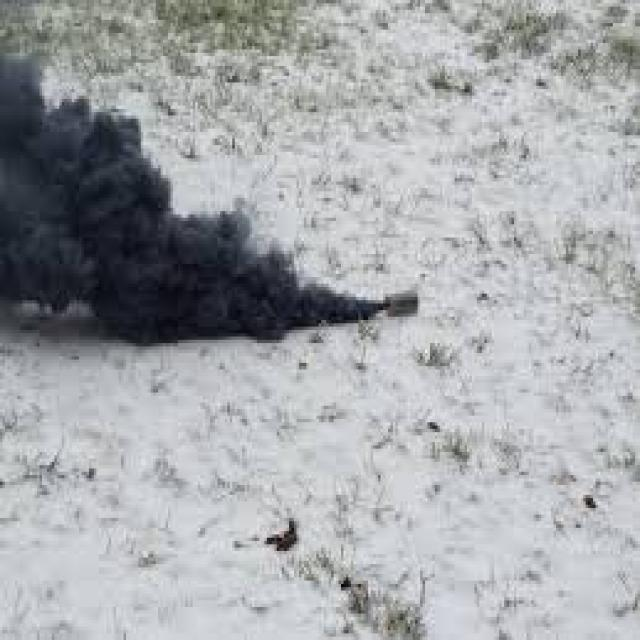Smoke: (0, 50, 391, 348)
